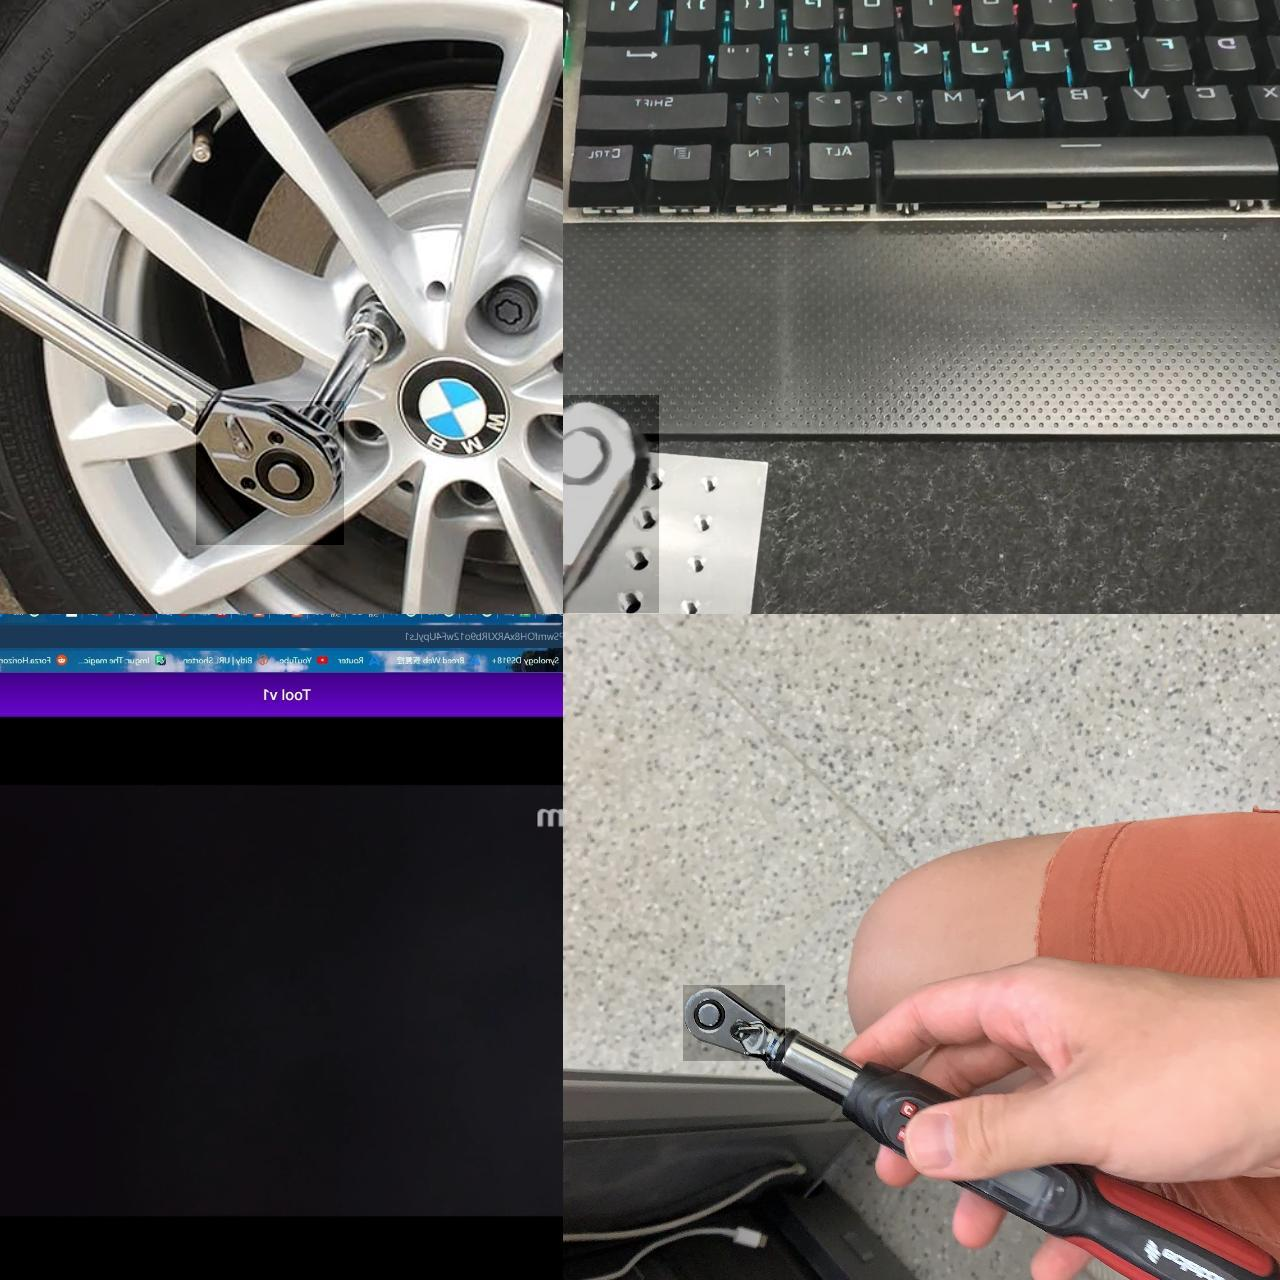Tool: (196, 401, 343, 545), (563, 395, 659, 613), (683, 985, 785, 1061)
